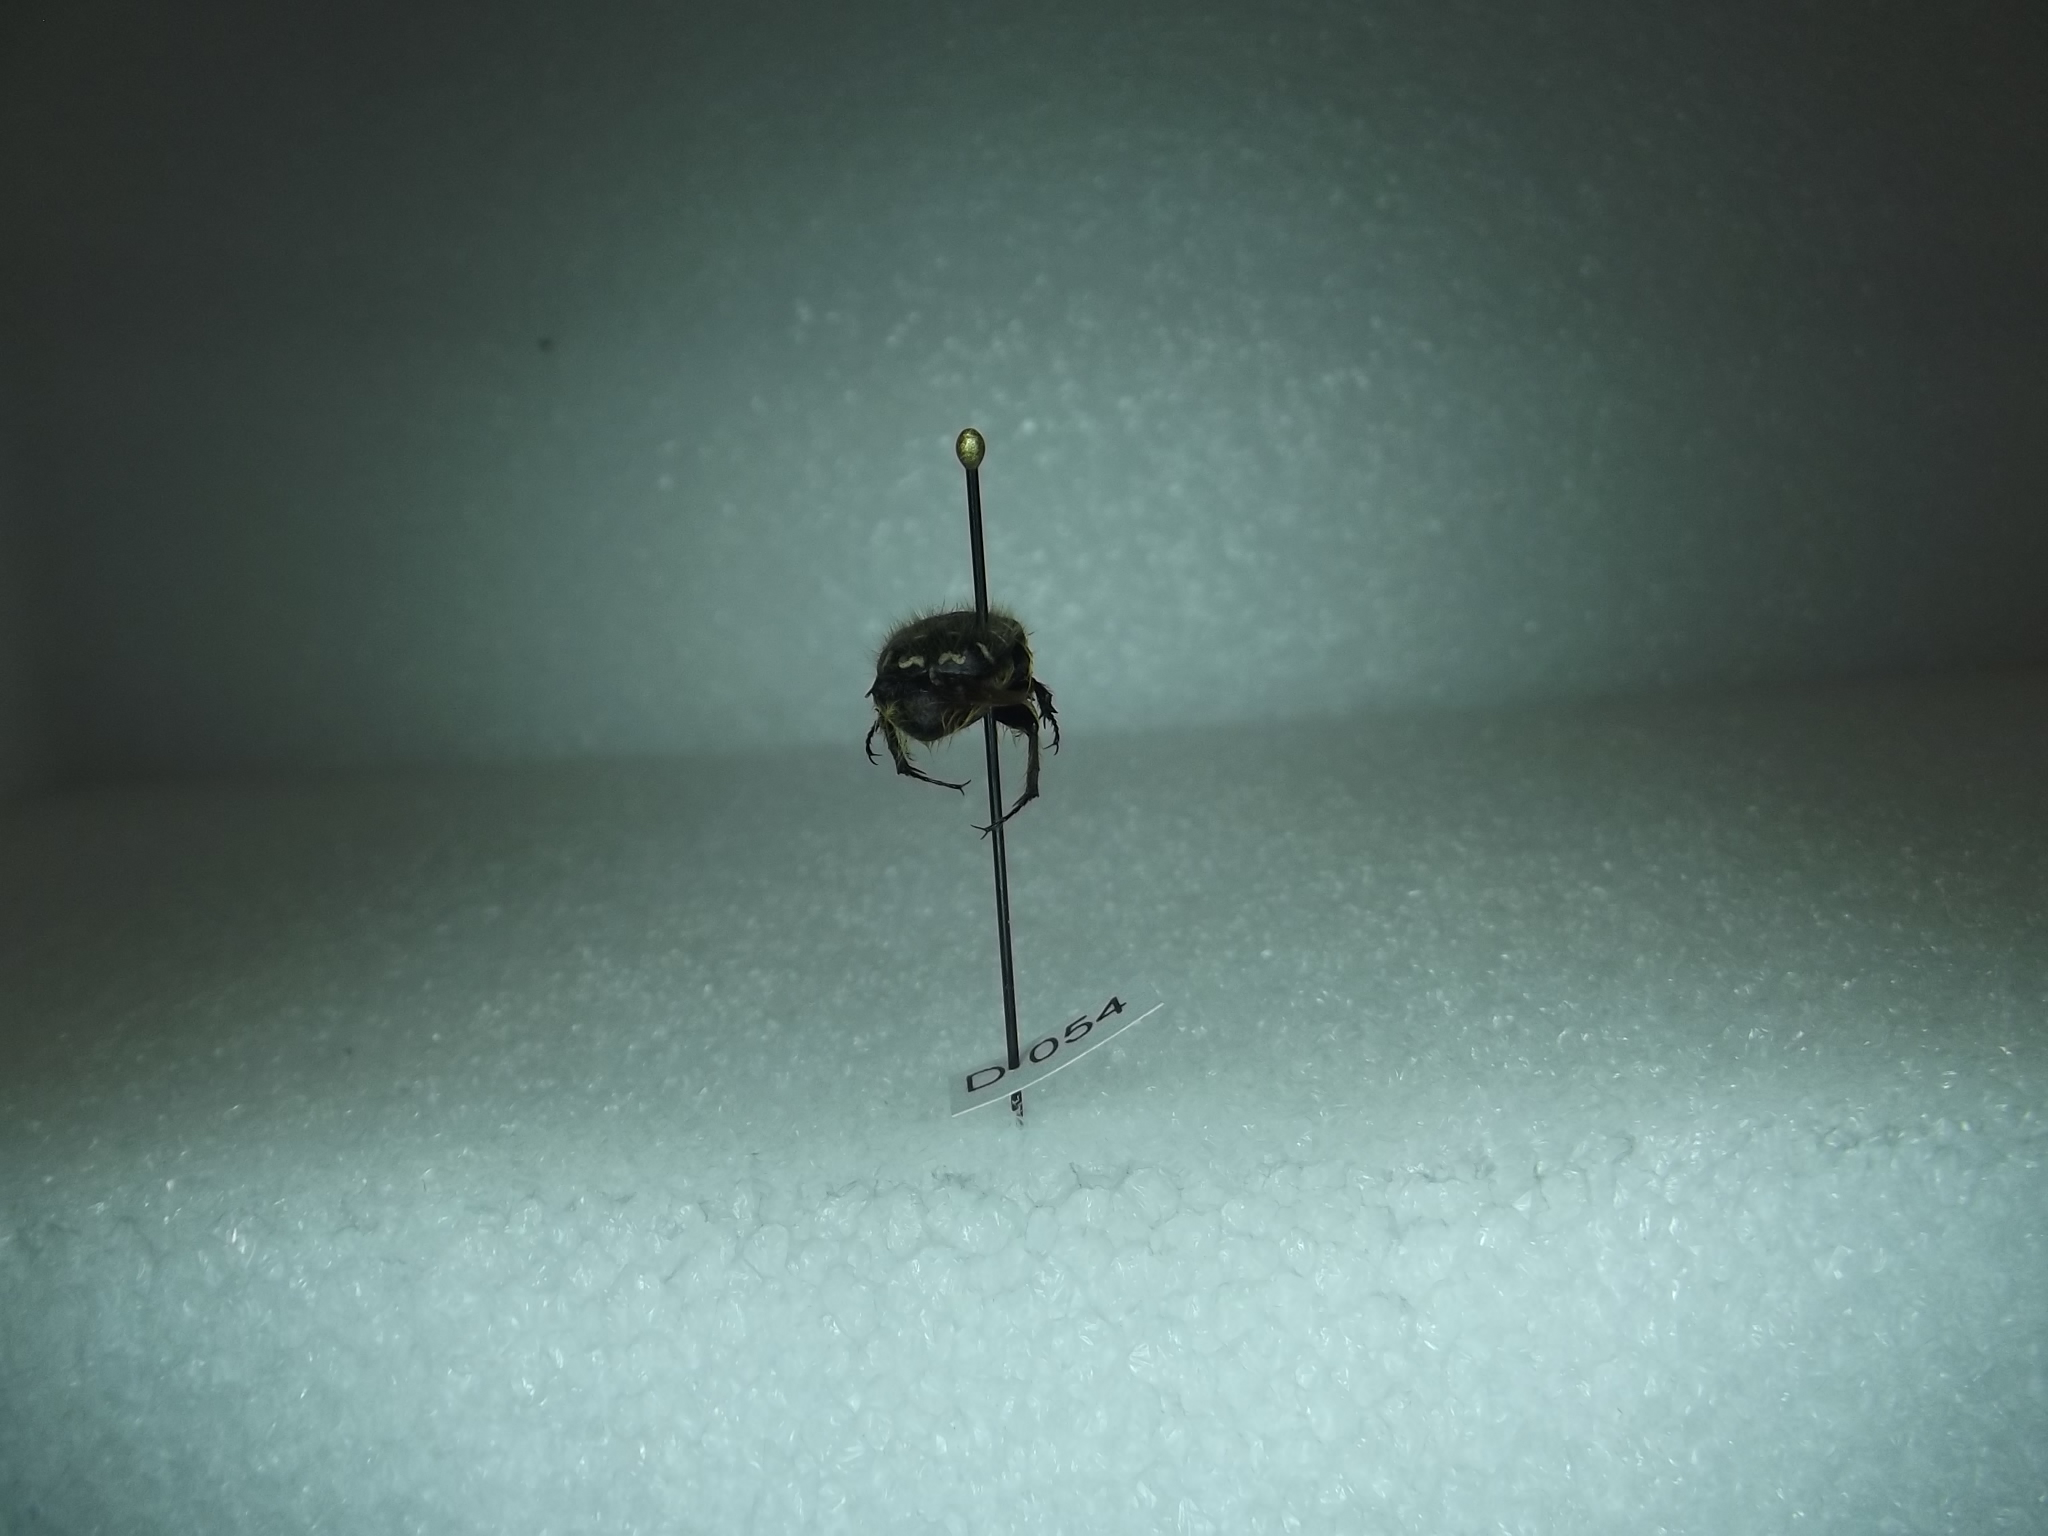Tropinota_hirta: (839, 600, 1085, 850)
